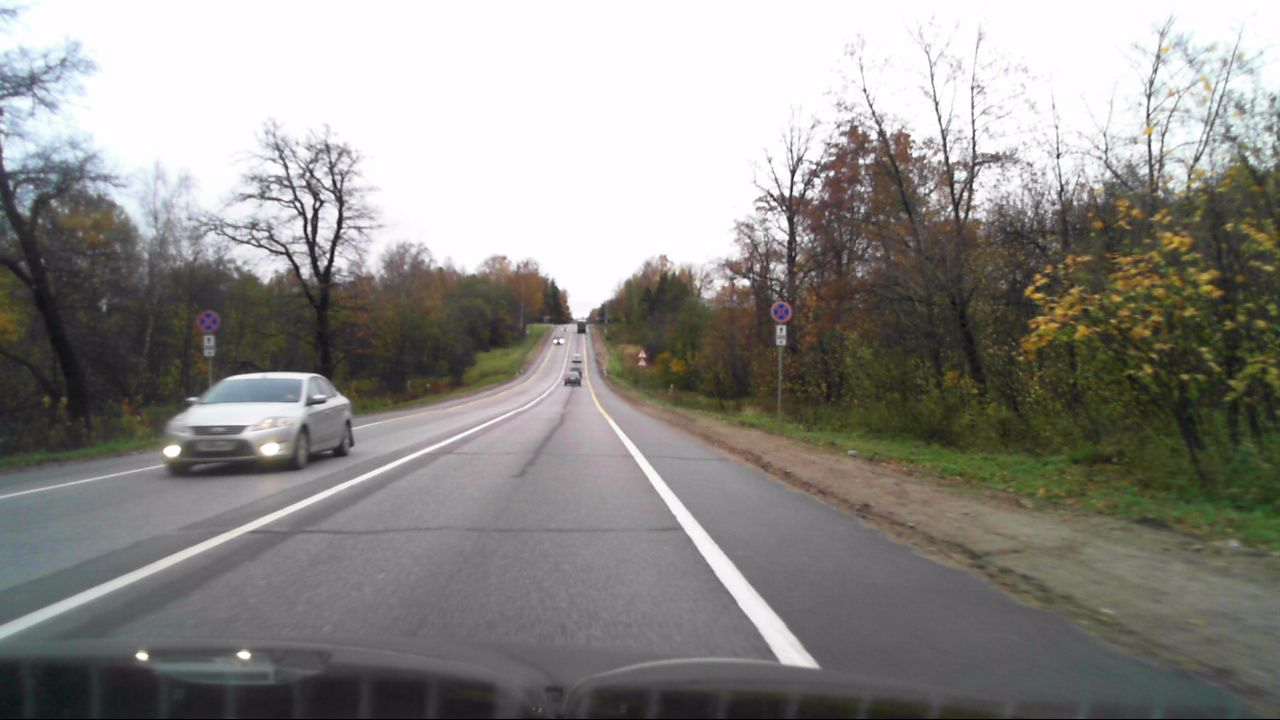No Parking: (197, 310, 219, 333)
